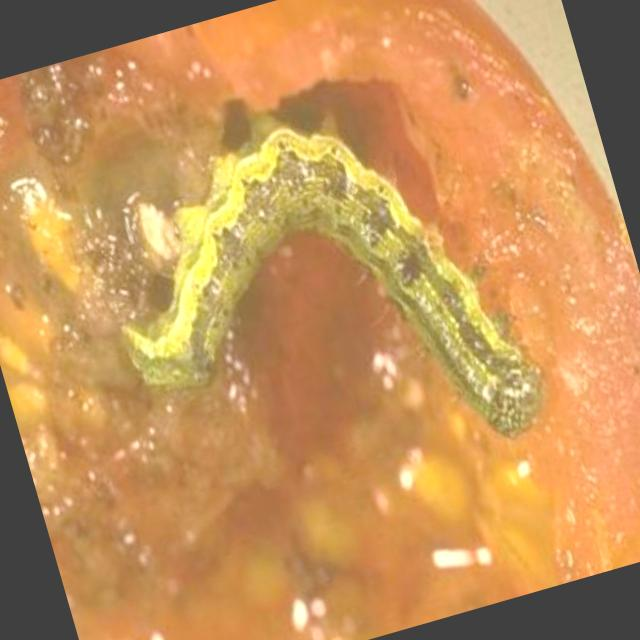Cotton bollworm: (48, 51, 590, 577)
